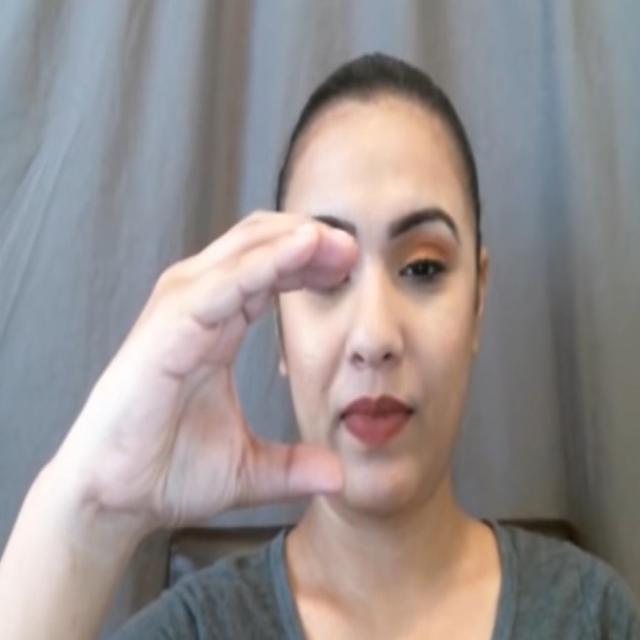C: (10, 208, 362, 526)
